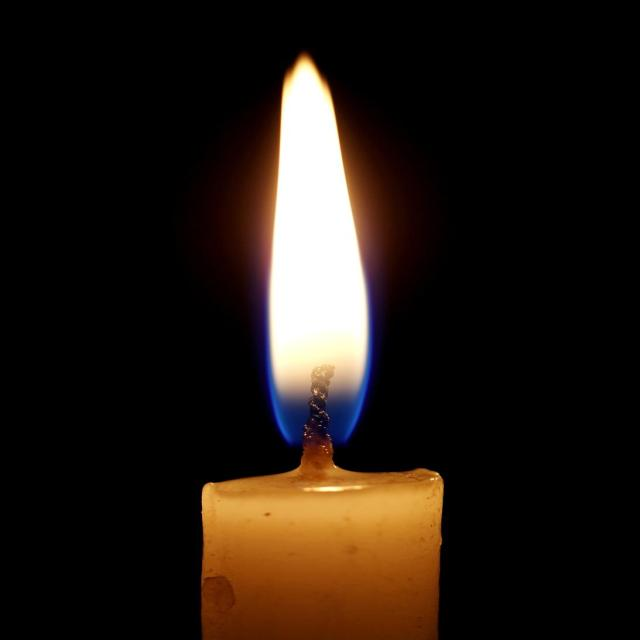Fire_Save: (199, 50, 445, 638), (264, 51, 372, 447)
